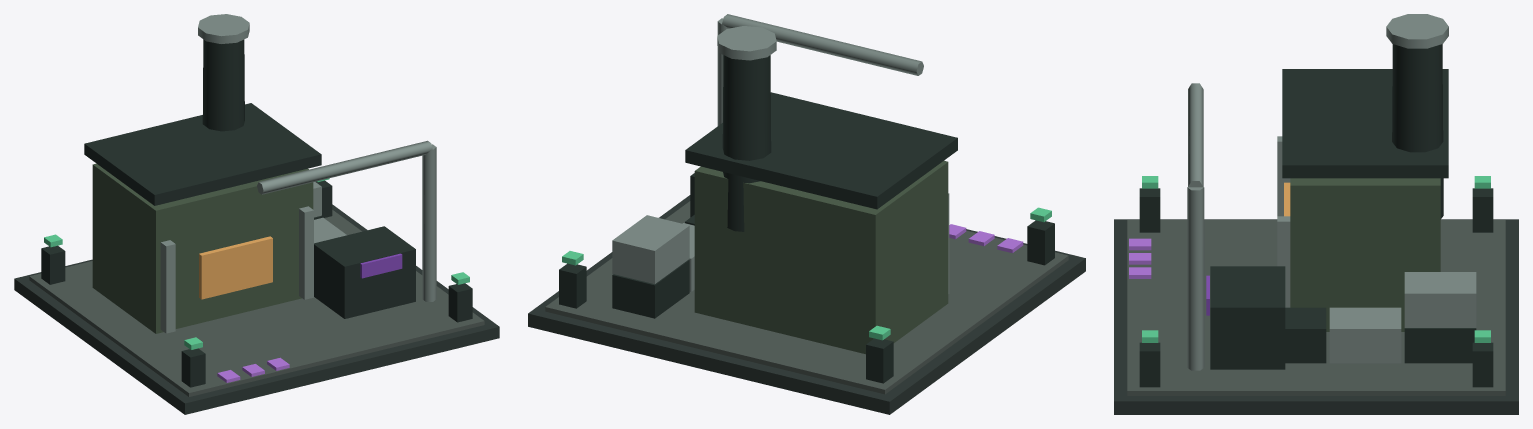
File: highland_l03.glb
3 views of the same model, side by side, from view 1: azimuth 30°, elevation 25°; view 2: azimuth 150°, elevation 25°; view 3: azimuth 270°, elevation 25° (orthographic). The views are drawn at different scales.
Parts seen in each view (by area): view 1: highland_l03; view 2: highland_l03; view 3: highland_l03.
Boxes of the visible parts, x1,y1,x2,y2 form: highland_l03: [14, 14, 499, 414]; highland_l03: [528, 14, 1085, 414]; highland_l03: [1114, 14, 1518, 414].
Bounding box in the file's own units: 6.6 × 5.12 × 6.2.
